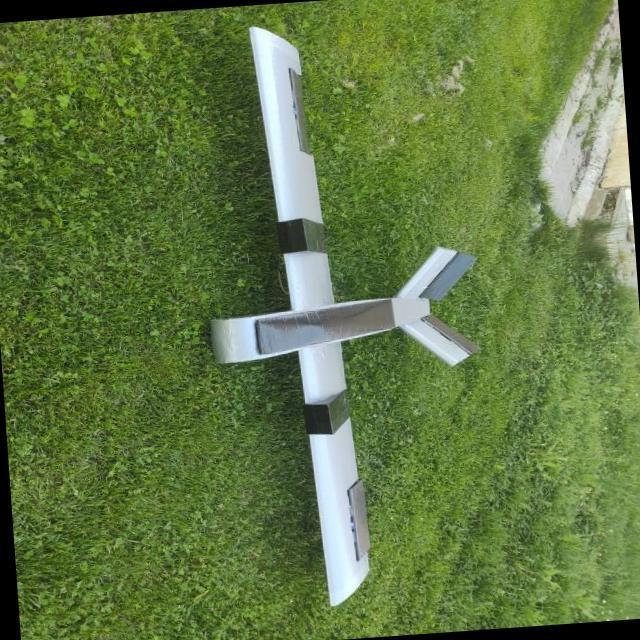iha: (138, 5, 541, 629)
